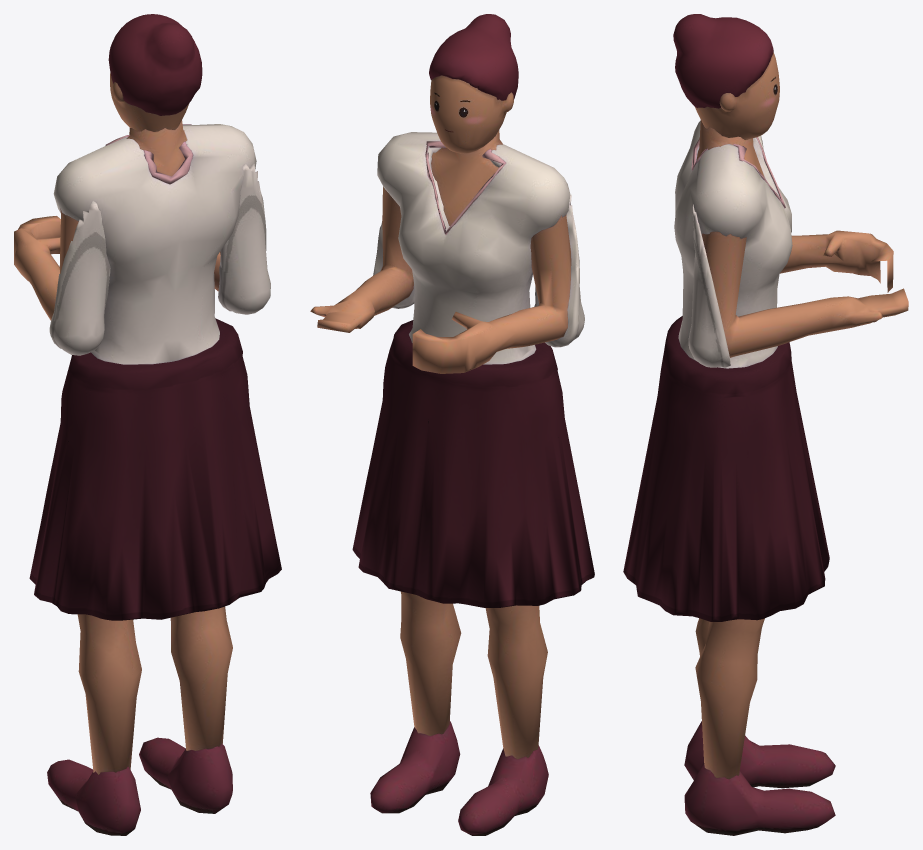
Rendered from npc_bun.glb.
3 views of the same model, side by side, from view 1: azimuth 30°, elevation 25°; view 2: azimuth 150°, elevation 25°; view 3: azimuth 270°, elevation 25° (orthographic). The views are drawn at different scales.
Parts seen in each view (by area): view 1: Torso_Hips, Torso_Top, LegL_Skin, Head_Hair, LegR_Skin, ArmL_Sleeve, ArmR_Sleeve, LegR_Shoe, LegL_Shoe, ArmL_Skin, Torso_Skin, Head_Skin (+1 smaller); view 2: Torso_Hips, Torso_Top, ArmL_Skin, LegL_Skin, LegR_Skin, Head_Hair, ArmR_Skin, LegR_Shoe, LegL_Shoe, Head_Skin, Torso_Skin, ArmL_Sleeve (+1 smaller); view 3: Torso_Hips, Torso_Top, ArmR_Skin, LegR_Skin, Head_Hair, LegR_Shoe, LegL_Shoe, ArmL_Skin, Head_Skin, ArmR_Sleeve, Torso_Skin, Torso_Trim.
Part boxes in pixels (x1,y1,x2,y2): Torso_Hips: (29, 318, 281, 620); Torso_Top: (53, 124, 256, 364); LegL_Skin: (77, 614, 141, 774); Head_Hair: (108, 14, 202, 115); LegR_Skin: (170, 606, 232, 750); ArmL_Sleeve: (49, 201, 110, 355); ArmR_Sleeve: (218, 164, 270, 314); LegR_Shoe: (139, 737, 232, 813); LegL_Shoe: (47, 759, 140, 835); ArmL_Skin: (14, 208, 78, 320); Torso_Skin: (126, 120, 187, 176); Head_Skin: (110, 72, 189, 131); Torso_Hips: (352, 320, 594, 607); Torso_Top: (377, 132, 570, 364); ArmL_Skin: (412, 214, 571, 373); LegL_Skin: (485, 605, 547, 759); LegR_Skin: (400, 591, 461, 736); Head_Hair: (429, 14, 518, 100); ArmR_Skin: (310, 186, 413, 332); LegR_Shoe: (370, 721, 460, 813); LegL_Shoe: (458, 745, 548, 835); Head_Skin: (430, 75, 513, 153); Torso_Skin: (431, 130, 503, 225); ArmL_Sleeve: (534, 194, 584, 347); Torso_Hips: (623, 316, 829, 621); Torso_Top: (674, 121, 792, 368); ArmR_Skin: (702, 231, 908, 357); LegR_Skin: (695, 618, 764, 779); Head_Hair: (673, 14, 773, 108); LegR_Shoe: (684, 762, 835, 835); LegL_Shoe: (684, 721, 835, 788); ArmL_Skin: (780, 230, 893, 292); Head_Skin: (695, 52, 779, 139); ArmR_Sleeve: (688, 204, 730, 367); Torso_Skin: (696, 119, 764, 176); Torso_Trim: (691, 137, 785, 208).
Size of the model in its own units: 0.4897 by 1.64 by 0.5365.
Materials: 5 (5 with a texture image).
